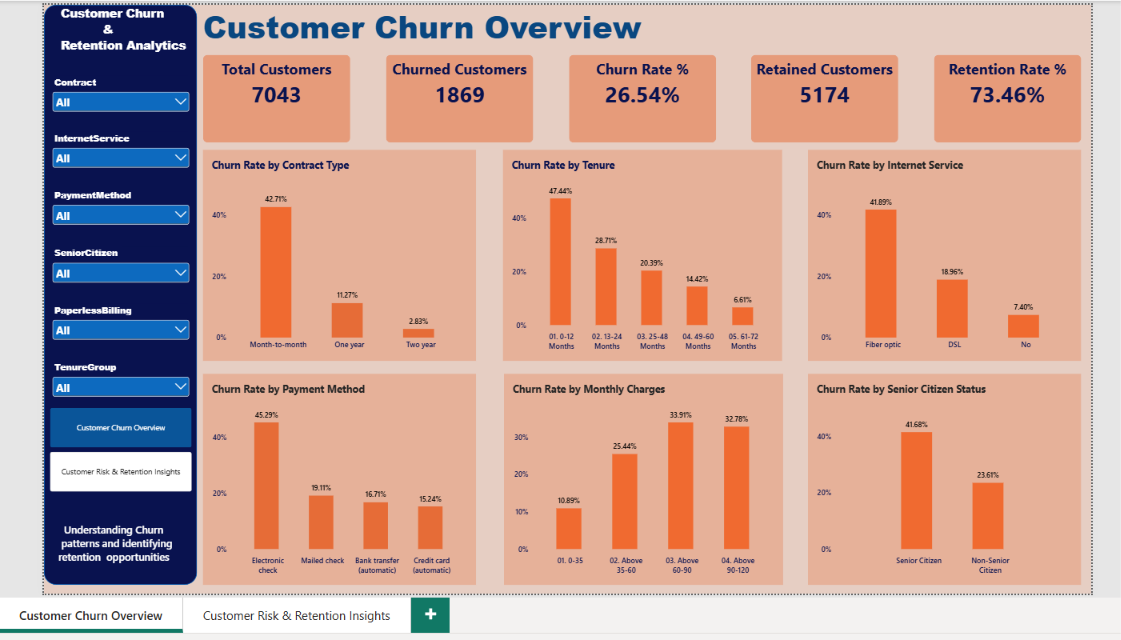

The page's visual inventory and layout, read from the dashboard file:
{"tool":"powerbi","page":{"name":"Customer Churn Overview","canvas":[1920,1080],"ordinal":0},"visuals":[{"type":"shape","box":[0,0,280.6,1063.9],"z":0},{"type":"textbox","box":[291.6,0,856.6,91.7],"z":1000},{"type":"textbox","box":[0,0,280.6,91.7],"z":2000},{"type":"cardVisual","fields":{"Data":["Cleaned Csv.Total Customers"]},"box":[291.6,91.7,270,161.4],"z":3000},{"type":"cardVisual","fields":{"Data":["Cleaned Csv.Churned Customers"]},"box":[626.9,91.7,270,161.4],"z":4000},{"type":"cardVisual","fields":{"Data":["Cleaned Csv.Churn Rate %"]},"box":[962.1,91.7,270,161.4],"z":5000},{"type":"cardVisual","fields":{"Data":["Cleaned Csv.Retained Customers"]},"box":[1297.3,91.7,270,161.4],"z":6000},{"type":"cardVisual","fields":{"Data":["Cleaned Csv.Retention Rate %"]},"box":[1632.5,91.7,270,161.4],"z":7000},{"type":"clusteredColumnChart","title":"Churn Rate by Contract Type","fields":{"Category":["Cleaned Csv.Contract"],"Y":["Cleaned Csv.Churn Rate %"]},"box":[291.6,266,500.7,387],"z":8000},{"type":"slicer","fields":{"Values":["Cleaned Csv.Contract"]},"box":[11,130.2,260.5,84.4],"z":9000},{"type":"slicer","fields":{"Values":["Cleaned Csv.InternetService"]},"box":[11,233.3,260.5,86.2],"z":10000},{"type":"slicer","fields":{"Values":["Cleaned Csv.PaymentMethod"]},"box":[11,338.2,260.5,86.2],"z":11000},{"type":"slicer","fields":{"Values":["Cleaned Csv.SeniorCitizen"]},"box":[11,443.2,260.5,86.2],"z":12000},{"type":"slicer","fields":{"Values":["Cleaned Csv.TenureGroup"]},"box":[11,653,260.5,86.2],"z":13000},{"type":"slicer","fields":{"Values":["Cleaned Csv.PaperlessBilling"]},"box":[11,548.1,260.5,86.2],"z":14000},{"type":"textbox","box":[11,950.1,260.5,95.4],"z":15000},{"type":"clusteredColumnChart","title":"Churn Rate by Tenure","fields":{"Y":["Cleaned Csv.Churn Rate %"],"Category":["Cleaned Csv.TenureGroup"]},"box":[841.9,266,511.8,387],"z":16000},{"type":"clusteredColumnChart","title":"Churn Rate by Internet Service","fields":{"Y":["Cleaned Csv.Churn Rate %"],"Category":["Cleaned Csv.InternetService"]},"box":[1401.4,266,500.7,387],"z":17000},{"type":"clusteredColumnChart","title":"Churn Rate by Payment Method","fields":{"Y":["Cleaned Csv.Churn Rate %"],"Category":["Cleaned Csv.PaymentMethod"]},"box":[291.6,676.8,500.7,387],"z":18000},{"type":"clusteredColumnChart","title":"Churn Rate by Monthly Charges","fields":{"Y":["Cleaned Csv.Churn Rate %"],"Category":["Cleaned Csv.MonthlyChargeGroup"]},"box":[843.8,676.8,512,387],"z":19000},{"type":"clusteredColumnChart","title":"Churn Rate  by Senior Citizen Status","fields":{"Y":["Cleaned Csv.Churn Rate %"],"Category":["Cleaned Csv.Senior Citizen Status"]},"box":[1401,677,501,387],"z":20000},{"type":"pageNavigator","box":[11,739.2,260.5,155.9],"z":21000}]}

Visuals, with their boxes on the page's 1920x1080 design canvas (x1, y1, x2, y2). These are canvas units, not pixel positions in the 1121x640 screenshot, which may show the page scaled, cropped or inside an application window:
shape: (x1=0, y1=0, x2=281, y2=1064)
textbox: (x1=292, y1=0, x2=1148, y2=92)
textbox: (x1=0, y1=0, x2=281, y2=92)
cardVisual - Cleaned Csv.Total Customers: (x1=292, y1=92, x2=562, y2=253)
cardVisual - Cleaned Csv.Churned Customers: (x1=627, y1=92, x2=897, y2=253)
cardVisual - Cleaned Csv.Churn Rate %: (x1=962, y1=92, x2=1232, y2=253)
cardVisual - Cleaned Csv.Retained Customers: (x1=1297, y1=92, x2=1567, y2=253)
cardVisual - Cleaned Csv.Retention Rate %: (x1=1632, y1=92, x2=1902, y2=253)
"Churn Rate by Contract Type" clusteredColumnChart: (x1=292, y1=266, x2=792, y2=653)
slicer - Cleaned Csv.Contract: (x1=11, y1=130, x2=272, y2=215)
slicer - Cleaned Csv.InternetService: (x1=11, y1=233, x2=272, y2=320)
slicer - Cleaned Csv.PaymentMethod: (x1=11, y1=338, x2=272, y2=424)
slicer - Cleaned Csv.SeniorCitizen: (x1=11, y1=443, x2=272, y2=529)
slicer - Cleaned Csv.TenureGroup: (x1=11, y1=653, x2=272, y2=739)
slicer - Cleaned Csv.PaperlessBilling: (x1=11, y1=548, x2=272, y2=634)
textbox: (x1=11, y1=950, x2=272, y2=1046)
"Churn Rate by Tenure" clusteredColumnChart: (x1=842, y1=266, x2=1354, y2=653)
"Churn Rate by Internet Service" clusteredColumnChart: (x1=1401, y1=266, x2=1902, y2=653)
"Churn Rate by Payment Method" clusteredColumnChart: (x1=292, y1=677, x2=792, y2=1064)
"Churn Rate by Monthly Charges" clusteredColumnChart: (x1=844, y1=677, x2=1356, y2=1064)
"Churn Rate  by Senior Citizen Status" clusteredColumnChart: (x1=1401, y1=677, x2=1902, y2=1064)
pageNavigator: (x1=11, y1=739, x2=272, y2=895)
